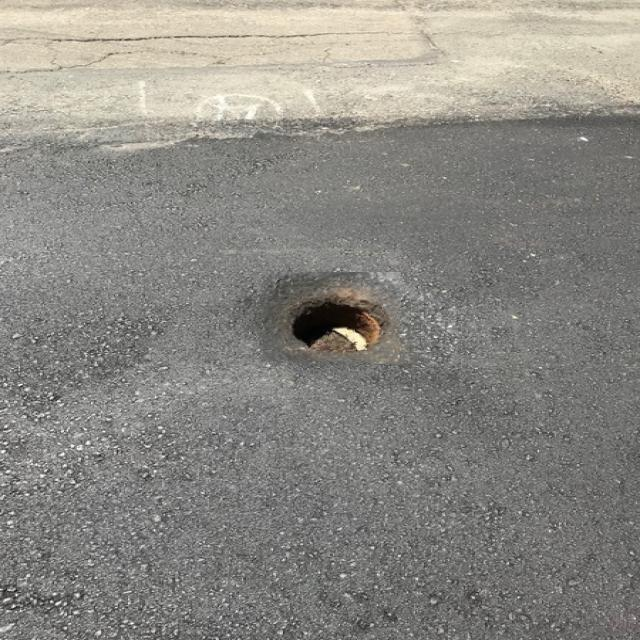Pothole: (263, 272, 401, 362)
